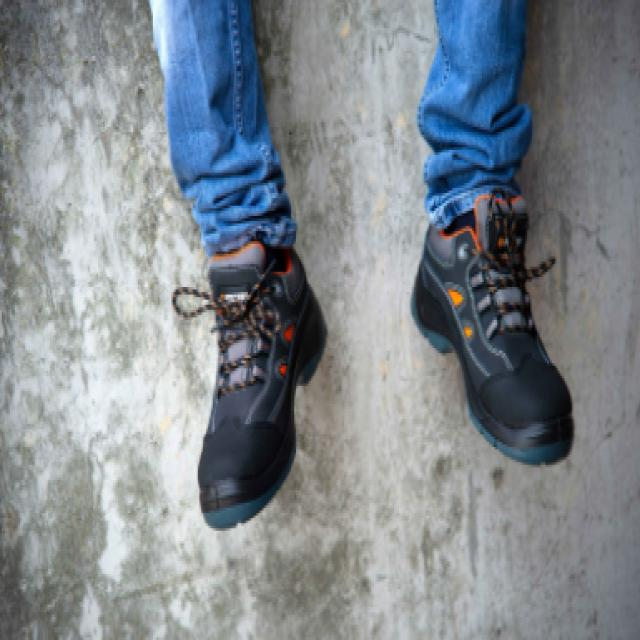shoes: (170, 188, 580, 533)
